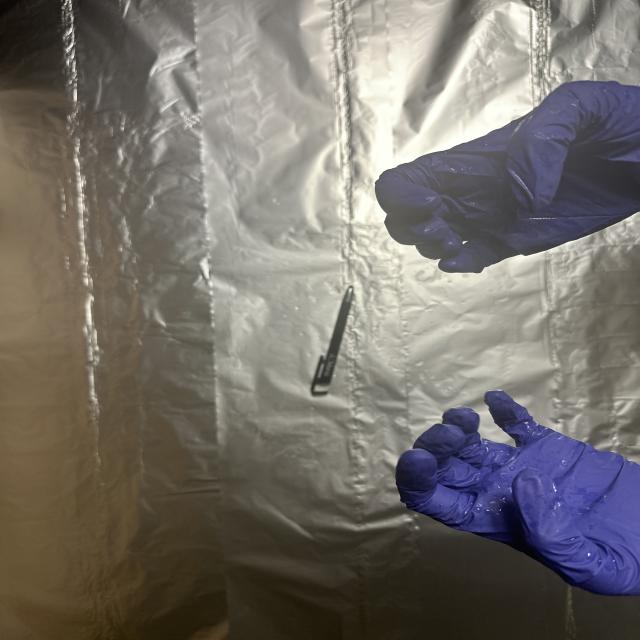gloves_contaminated: (375, 81, 640, 273), (396, 390, 640, 596)
